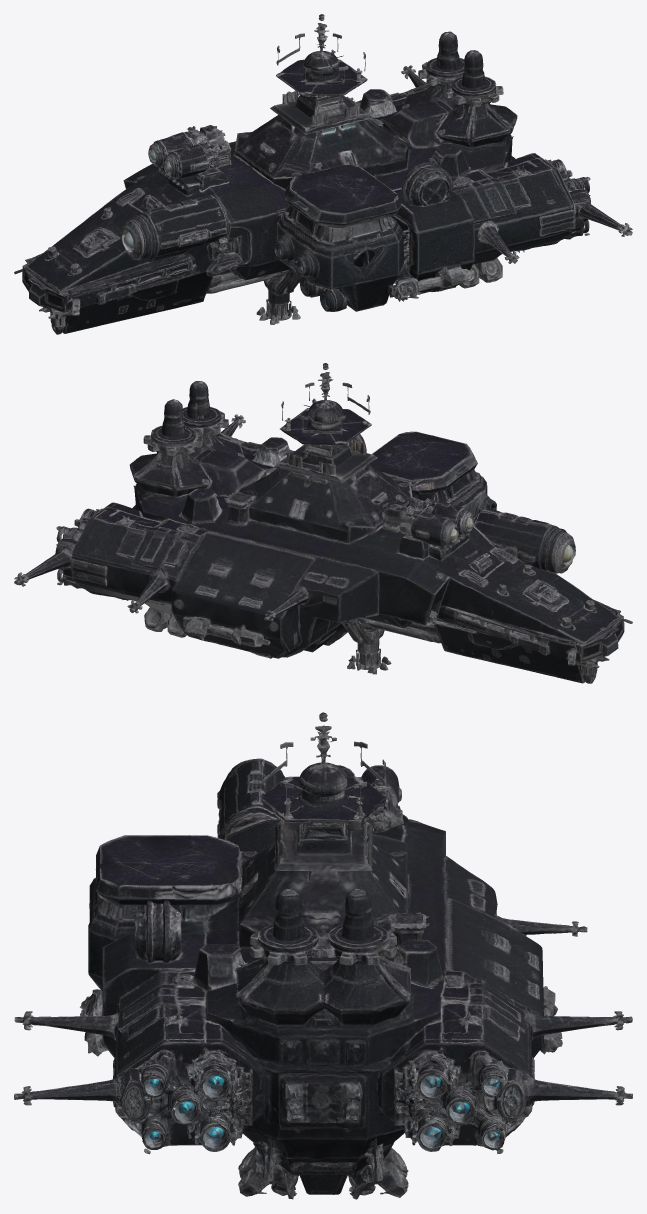
The model's file is carrier2.glb.
3 renders of one model, top to bottom at view 1: azimuth 30°, elevation 25°; view 2: azimuth 150°, elevation 25°; view 3: azimuth 270°, elevation 25°, orthographic. The views are drawn at different scales.
Visible parts, largest first — view 1: mesh_0; view 2: mesh_0; view 3: mesh_0.
Part boxes in pixels (<box>): mesh_0: <box>14,14,632,334</box>; mesh_0: <box>14,363,632,683</box>; mesh_0: <box>14,712,632,1199</box>.
Bounding box in the file's own units: 1.9 × 1.08 × 1.51.
Materials: 1 (1 with a texture image).
